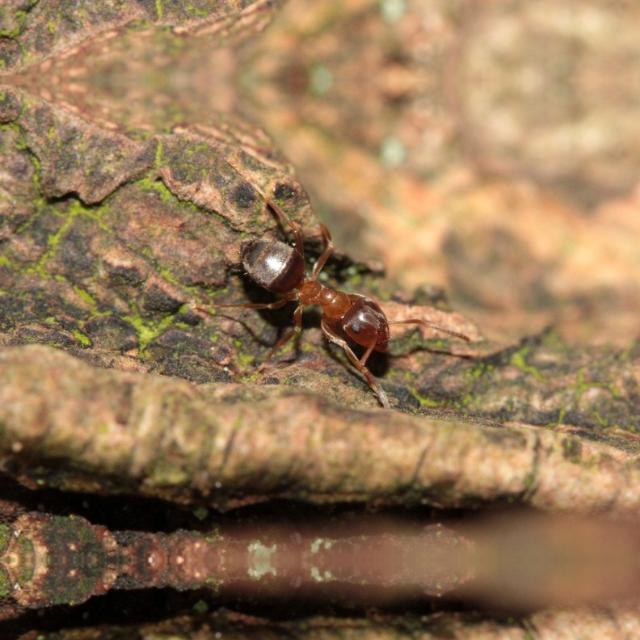Lasius: (225, 208, 441, 362)
